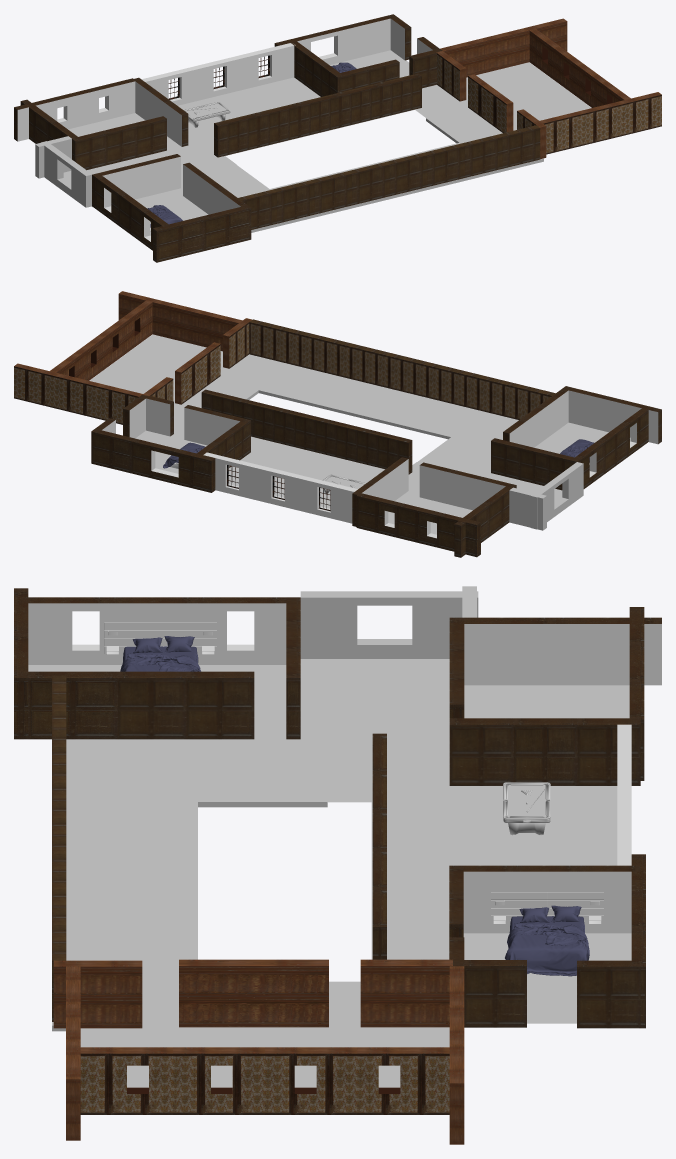
Rendered from FirstFloor.fbx.
3 renders of one model, top to bottom at view 1: azimuth 30°, elevation 25°; view 2: azimuth 150°, elevation 25°; view 3: azimuth 270°, elevation 25°, orthographic. The views are drawn at different scales.
Visible parts, largest first — view 1: Entry_wall, Entry_wall.007, Free_space_floor2, Entry_wall.004, Entry_wall.016, entry_floor, Entry_wall.035, Entry_wall.011, Big_Room_Floor, Entry_wall.013, Entry_wall.017, Entry_wall.015 (+22 smaller); view 2: entry_floor, Entry_wall, Entry_wall.007, Entry_wall.004, Free_space_floor2, Entry_wall.012, Entry_wall.017, Entry_wall.011, Big_Room_Floor, Entry_wall.015, Entry_wall.016, Entry_wall.035 (+21 smaller); view 3: entry_floor, Free_space_floor2, Entry_wall.015, Entry_wall.025, Entry_wall.014, freespace_floor, Entry_wall.031, Entry_wall.009, Big_Room_Floor, Entry_wall.033, Entry_wall.019, Entry_wall.005 (+22 smaller).
Boxes of the visible parts, x1,y1,x2,y2 form: Entry_wall: (236,125,540,229); Entry_wall.007: (214,73,421,157); Free_space_floor2: (137,77,467,177); Entry_wall.004: (142,43,295,105); Entry_wall.016: (540,92,661,154); entry_floor: (179,108,543,232); Entry_wall.035: (153,205,251,262); Entry_wall.011: (14,78,135,141); Big_Room_Floor: (464,62,591,130); Entry_wall.013: (72,116,166,170); Entry_wall.017: (440,18,567,77); Entry_wall.015: (529,29,630,107); entry_floor: (182,354,518,477); Entry_wall: (249,319,557,419); Entry_wall.007: (201,389,412,474); Entry_wall.004: (203,452,357,523); Free_space_floor2: (173,404,421,508); Entry_wall.012: (91,429,215,492); Entry_wall.017: (14,363,142,424); Entry_wall.011: (356,493,480,557); Big_Room_Floor: (89,334,225,406); Entry_wall.015: (50,300,152,380); Entry_wall.016: (118,291,242,351); Entry_wall.035: (562,386,661,444); entry_floor: (52,737,327,1031); Free_space_floor2: (327,737,617,1024); Entry_wall.015: (80,1047,449,1114); Entry_wall.025: (450,617,661,685); Entry_wall.014: (449,718,640,785); freespace_floor: (300,659,449,737); Entry_wall.031: (20,597,286,664); Entry_wall.009: (179,959,328,1027); Big_Room_Floor: (80,1025,449,1087); Entry_wall.033: (117,671,254,739); Entry_wall.019: (300,591,478,658); Entry_wall.005: (449,865,640,933).
Size of what is drawn, in the model's own units: 60.73 by 3.83 by 33.47.
